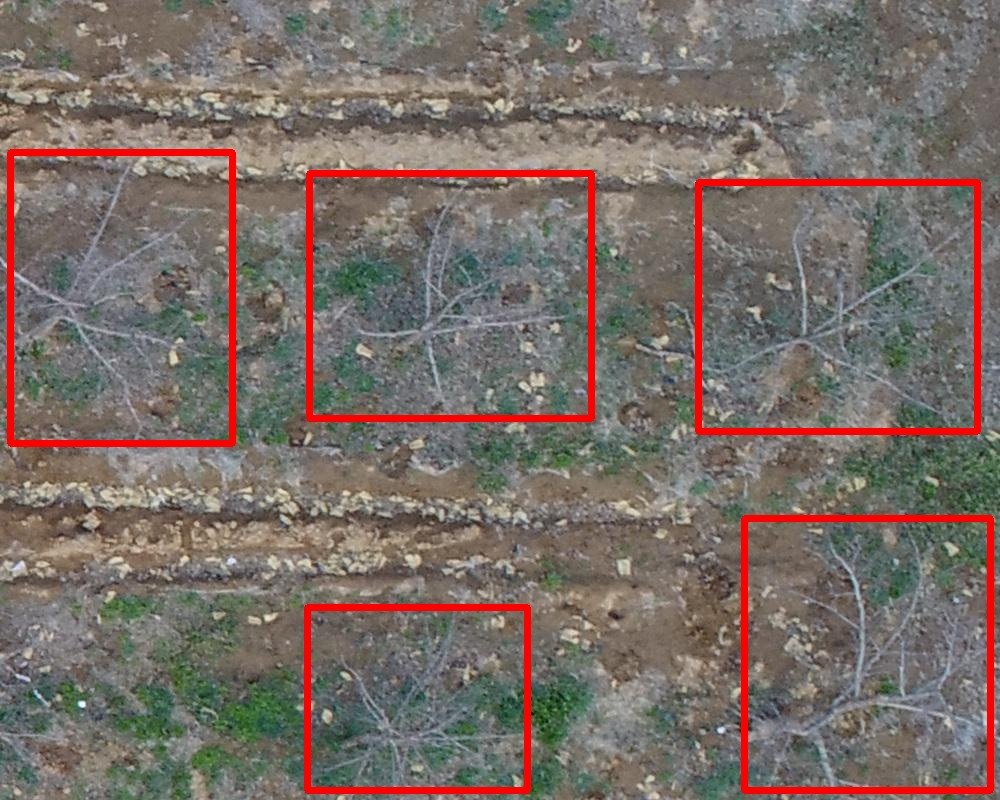apple: (698, 182, 977, 431), (309, 173, 591, 418), (744, 518, 990, 790), (10, 152, 232, 443), (307, 607, 527, 790)
